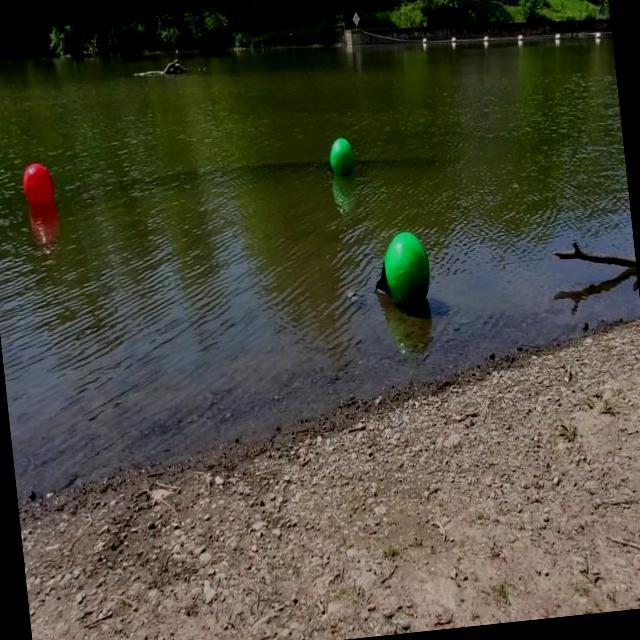buoy: (370, 230, 432, 306), (21, 161, 55, 206), (328, 136, 355, 176)
